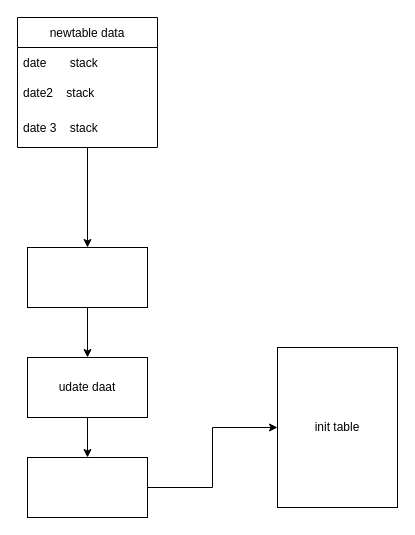
Some shapes in this 415 by 535 pixel diagram are drawn without their labels. The shapes that lost their labels are listed below. From the top down, each one's centre as x and y in pixels, then its label:
At point (87, 277): "joinpridod".
At point (87, 487): "appdate chart".
